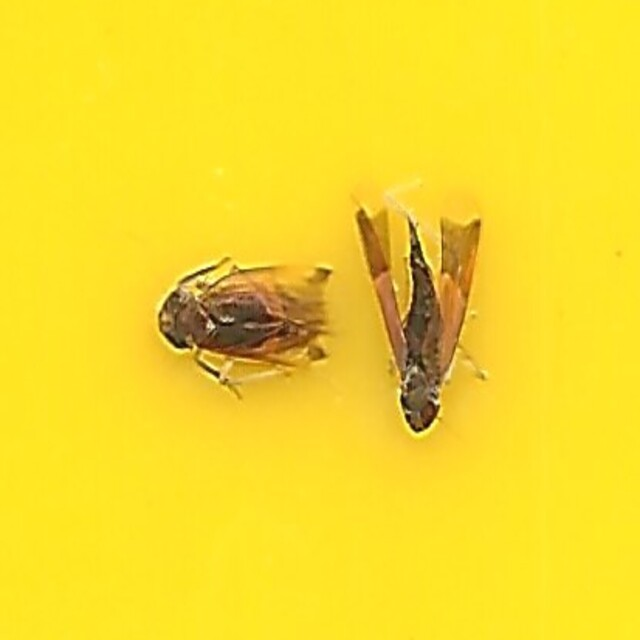Hemiptera: (355, 203, 485, 437), (155, 249, 336, 395)
